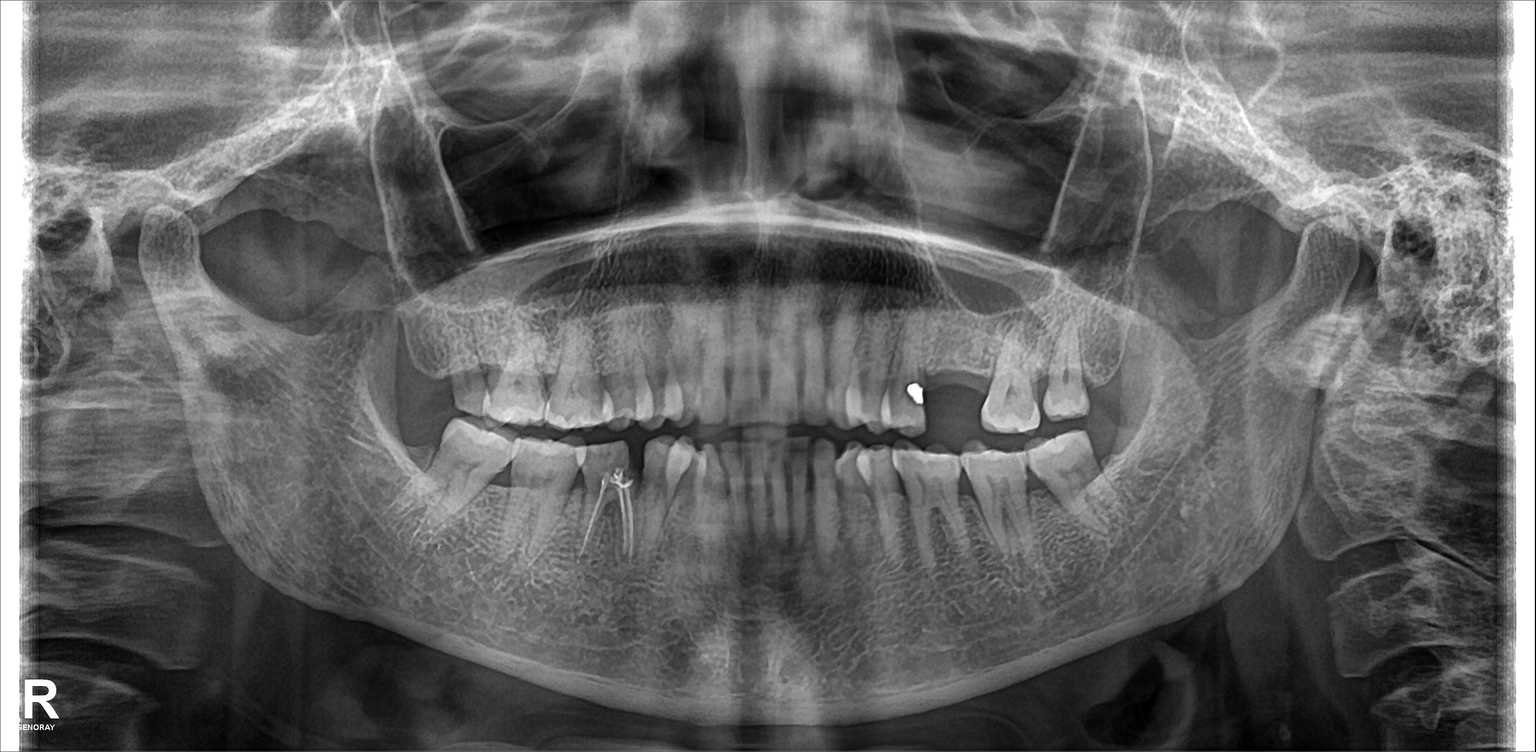Dental Caries: (583, 452, 632, 475)
Endodontically Treated Tooth: (581, 452, 629, 565)
Missing Tooth: (927, 341, 989, 434), (395, 322, 444, 408), (387, 417, 429, 500), (1093, 307, 1125, 395), (1104, 430, 1140, 495)
